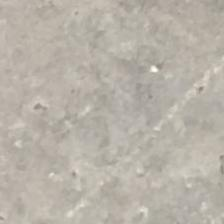Non_Crack: (14, 29, 189, 176)
